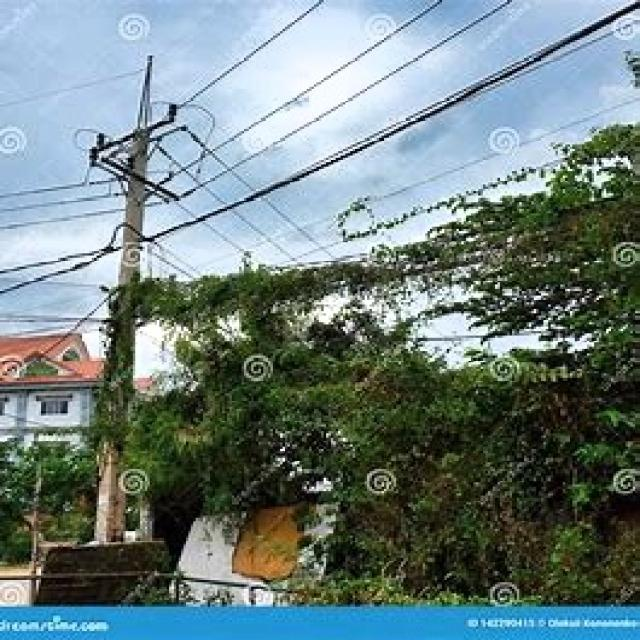critical vegetation: (96, 224, 636, 376)
